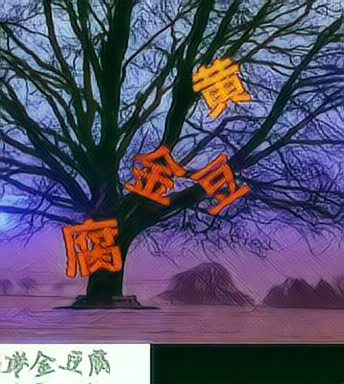B6B9: (185, 153, 250, 217)
B8AF: (58, 214, 123, 278)
BBC6: (188, 57, 253, 121)
BDF0: (123, 142, 188, 206)
